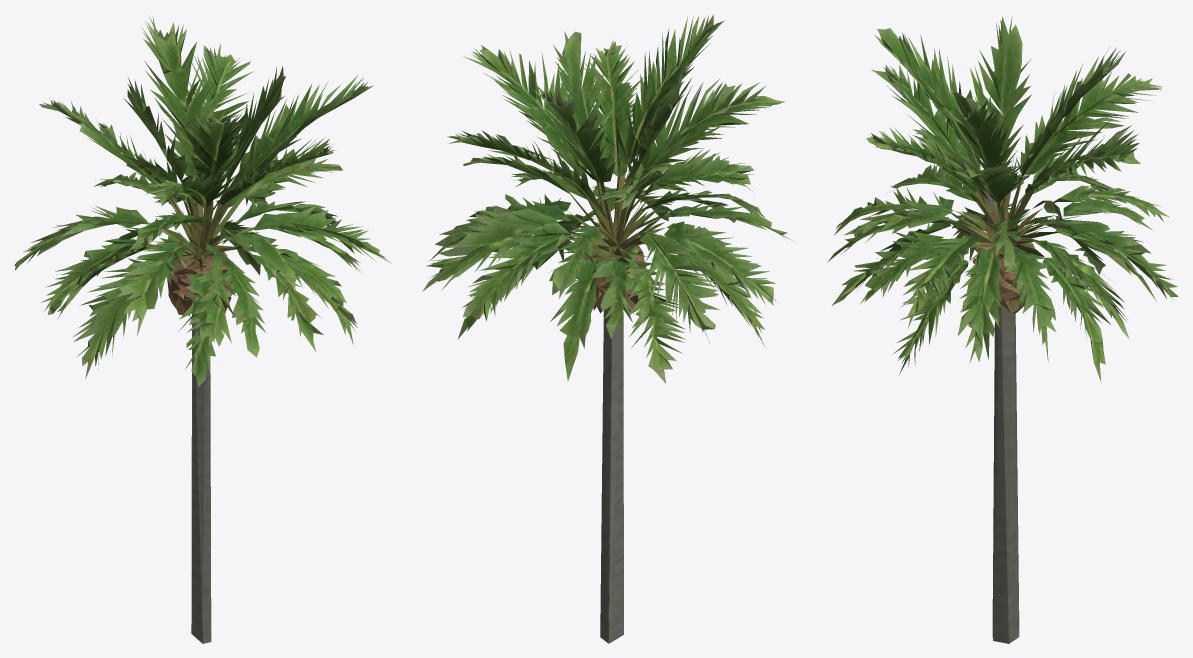
File: scene_palm.glb
The picture shows the model from 3 angles, left to right: view 1: azimuth 30°, elevation 25°; view 2: azimuth 150°, elevation 25°; view 3: azimuth 270°, elevation 25°; orthographic projection. The views are drawn at different scales.
Size of the model in its own units: 1.1 by 1.9 by 1.02.
1 material, 1 textured.
